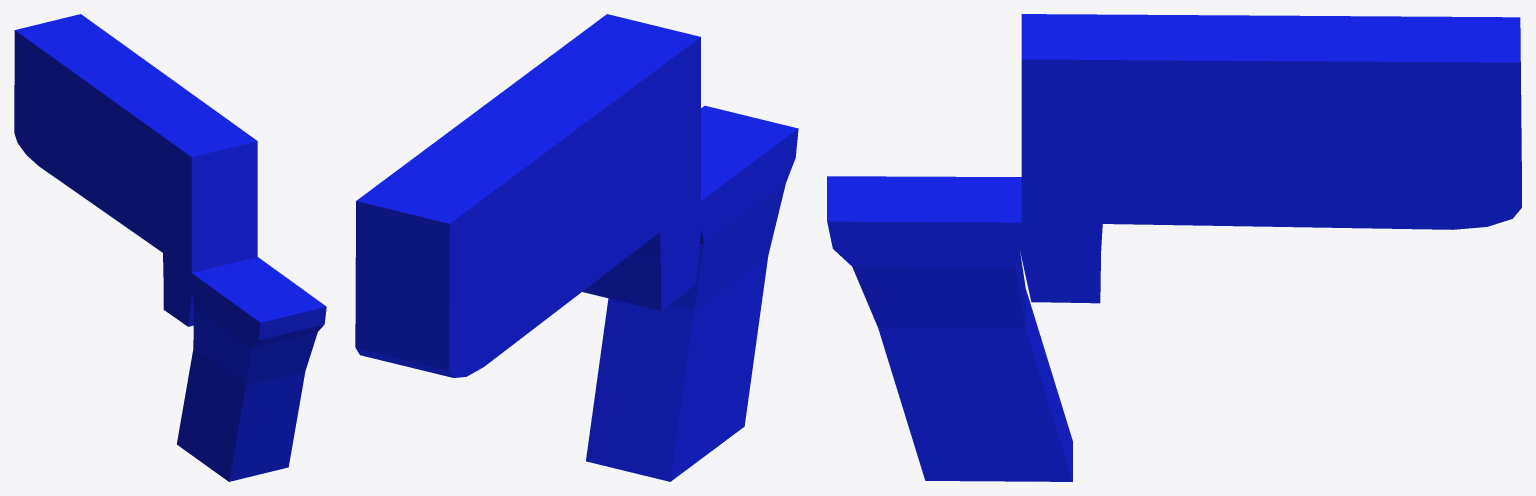
File: Body_Vladof.glb
The picture shows the model from 3 angles, left to right: view 1: azimuth 30°, elevation 25°; view 2: azimuth 150°, elevation 25°; view 3: azimuth 270°, elevation 25°; orthographic projection. The views are drawn at different scales.
Visible parts, largest first — view 1: Body.Vladof; view 2: Body.Vladof; view 3: Body.Vladof.
Boxes of the visible parts, x1,y1,x2,y2 form: Body.Vladof: (14, 14, 326, 481); Body.Vladof: (355, 14, 798, 481); Body.Vladof: (827, 14, 1521, 481).
Bounding box in the file's own units: 0.1136 × 0.4945 × 0.7331.
